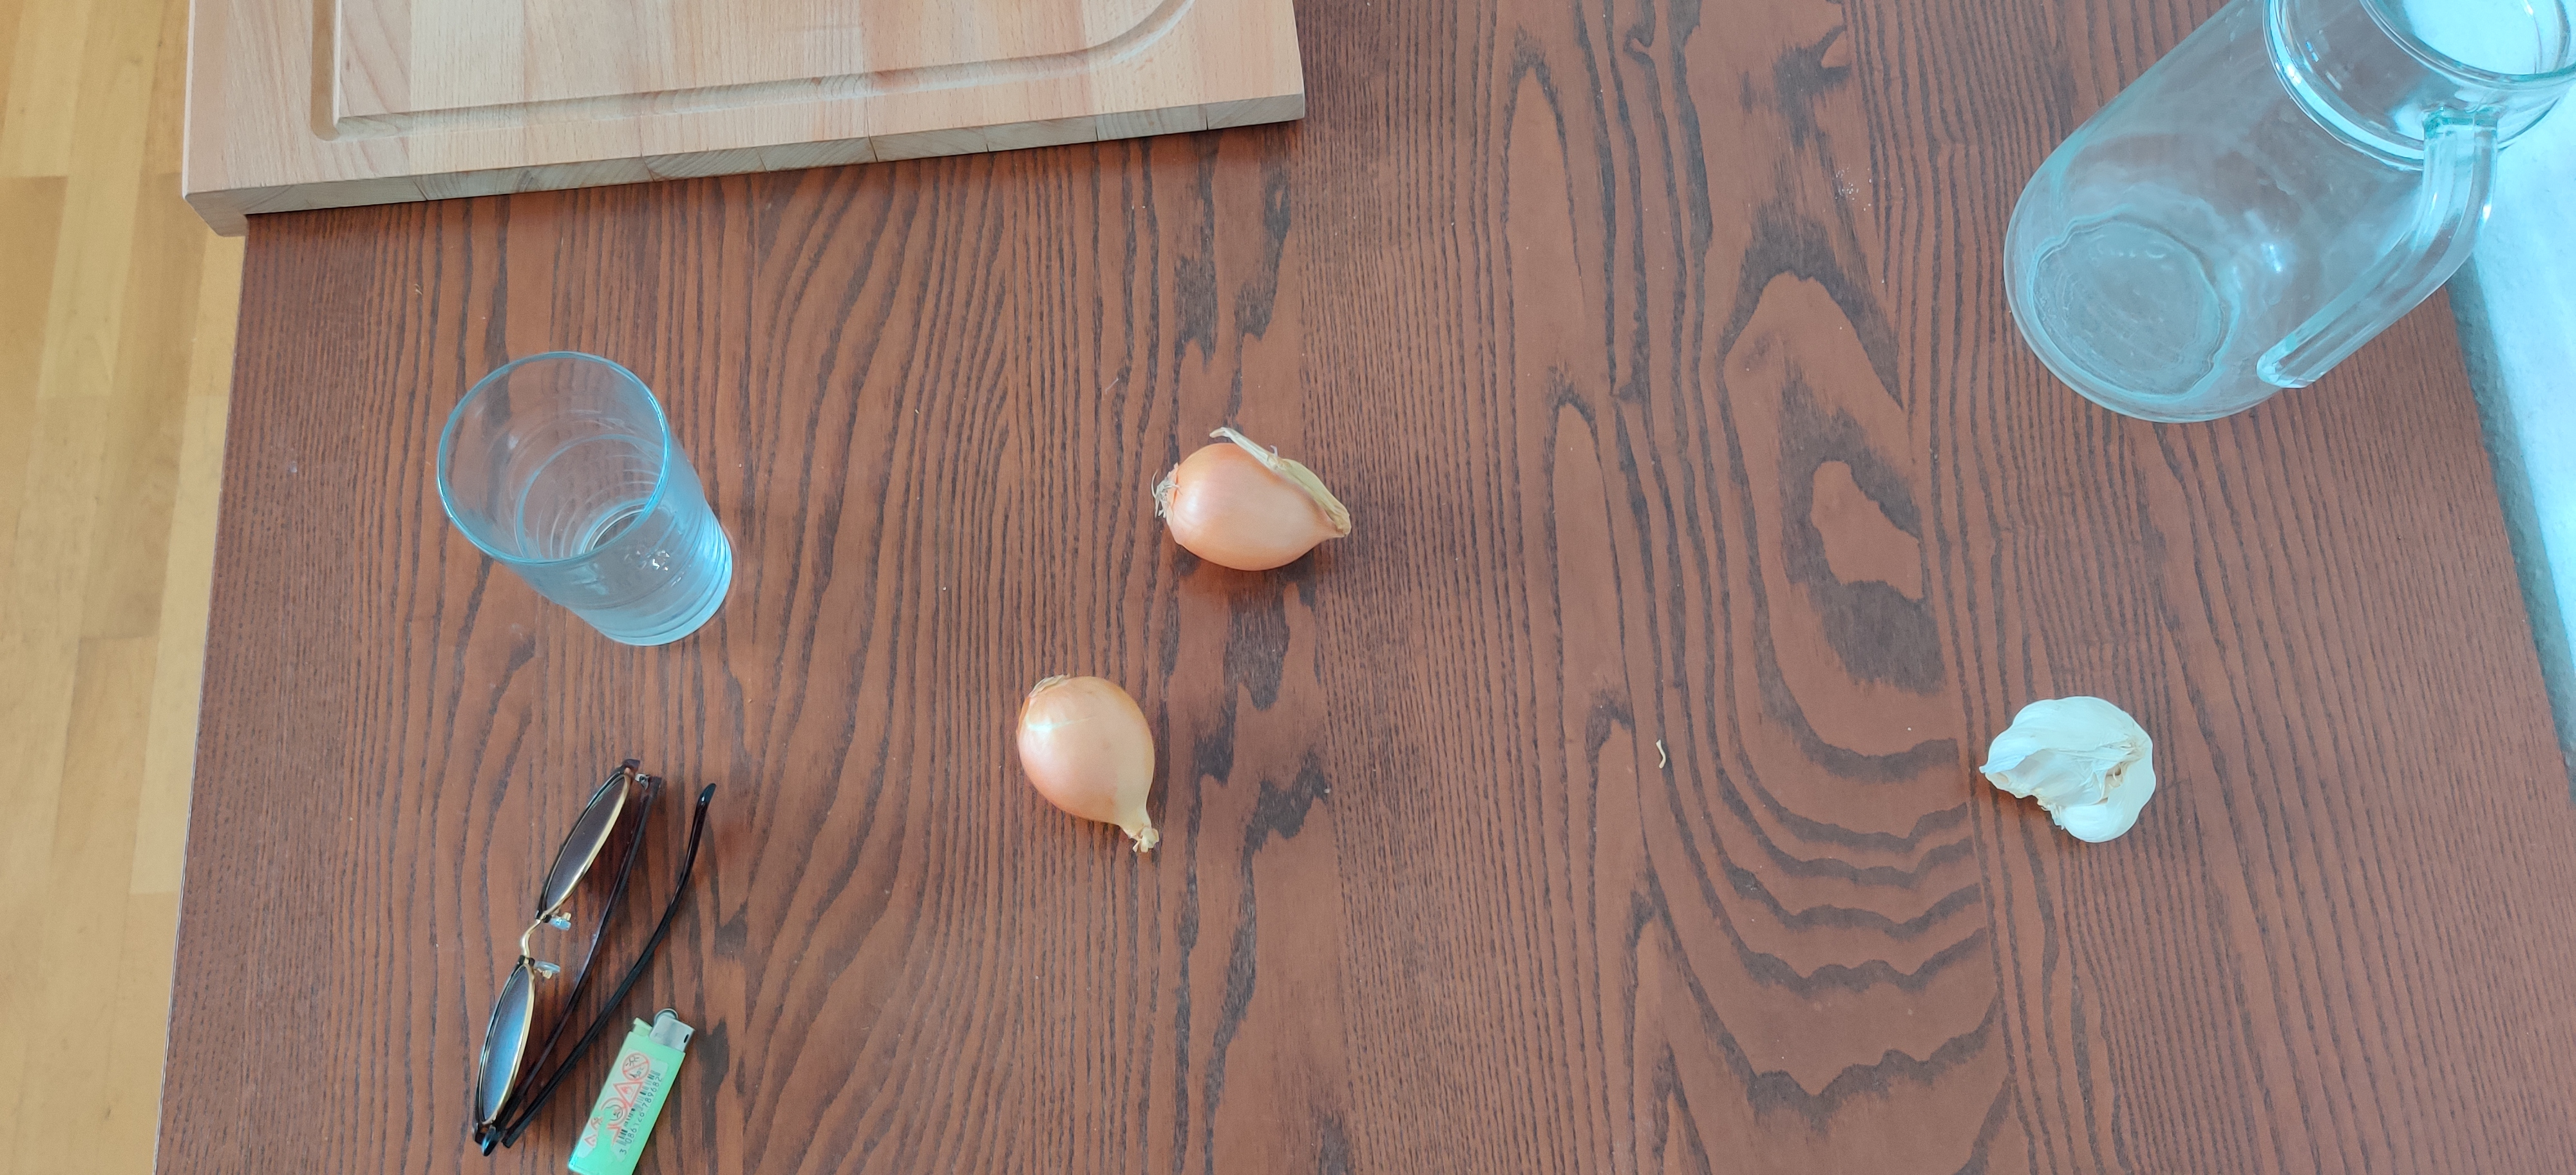Zwiebel: (1152, 427, 1352, 572), (1014, 674, 1165, 853)
